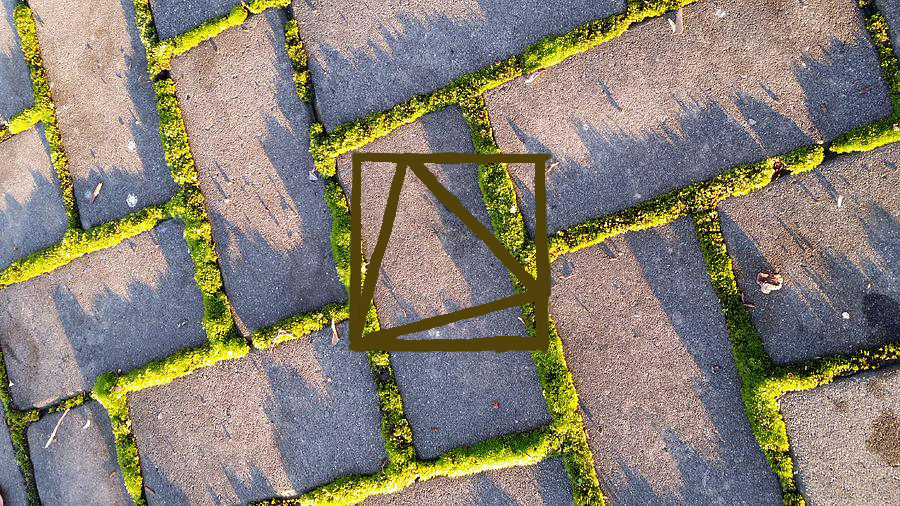marker: (347, 150, 557, 355)
